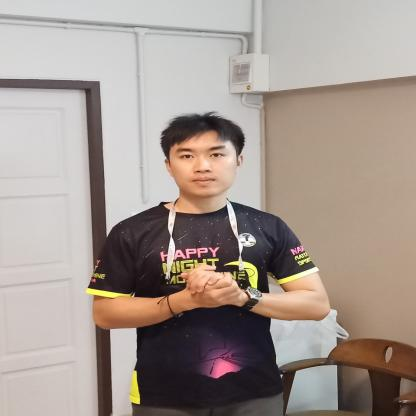Grieve: (139, 250, 302, 332)
